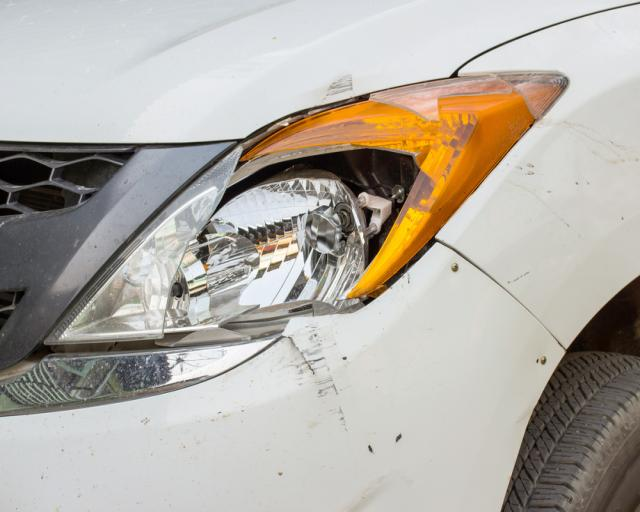crack: (281, 335, 318, 376)
lamp broken: (40, 70, 567, 347)
scratch: (288, 328, 349, 435)
